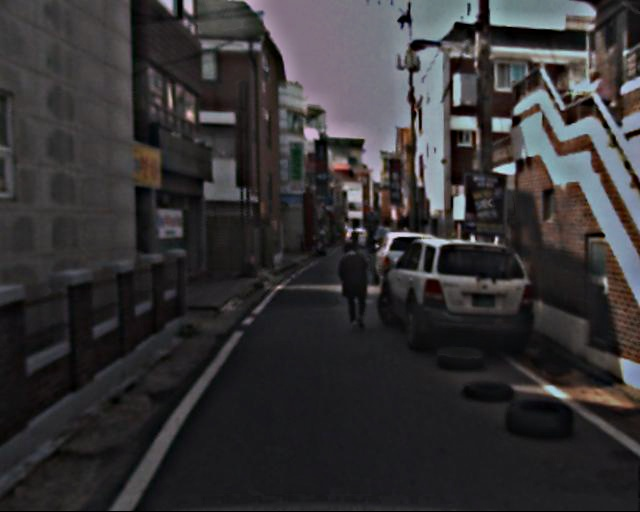person: (333, 237, 373, 335)
